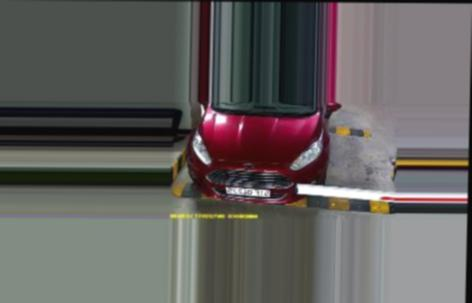License_Plate: (228, 186, 270, 197)
